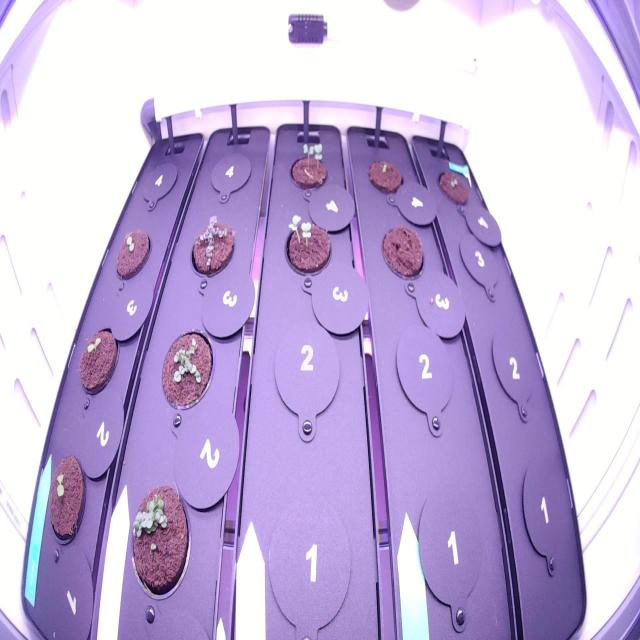empty_pod: (261, 484, 356, 626), (416, 483, 492, 615), (267, 316, 347, 426), (389, 318, 459, 428), (518, 449, 574, 572), (485, 321, 544, 413), (453, 221, 507, 299), (206, 140, 255, 202), (139, 147, 181, 210)
germination: (125, 474, 197, 605), (153, 320, 220, 417), (40, 442, 90, 556), (274, 206, 338, 291), (184, 200, 242, 287), (75, 318, 125, 405), (279, 129, 337, 200), (108, 221, 156, 287), (363, 151, 408, 203), (430, 160, 474, 210)
pod: (376, 218, 431, 291)
